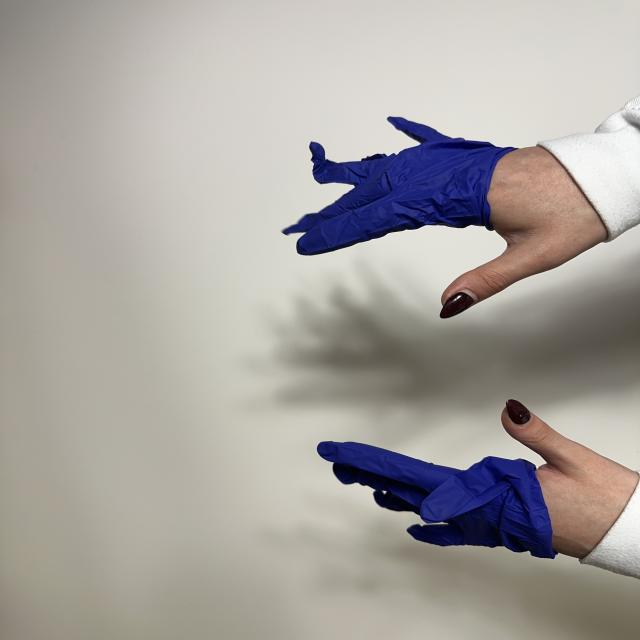glove_partial: (283, 118, 608, 318), (318, 400, 640, 575)
